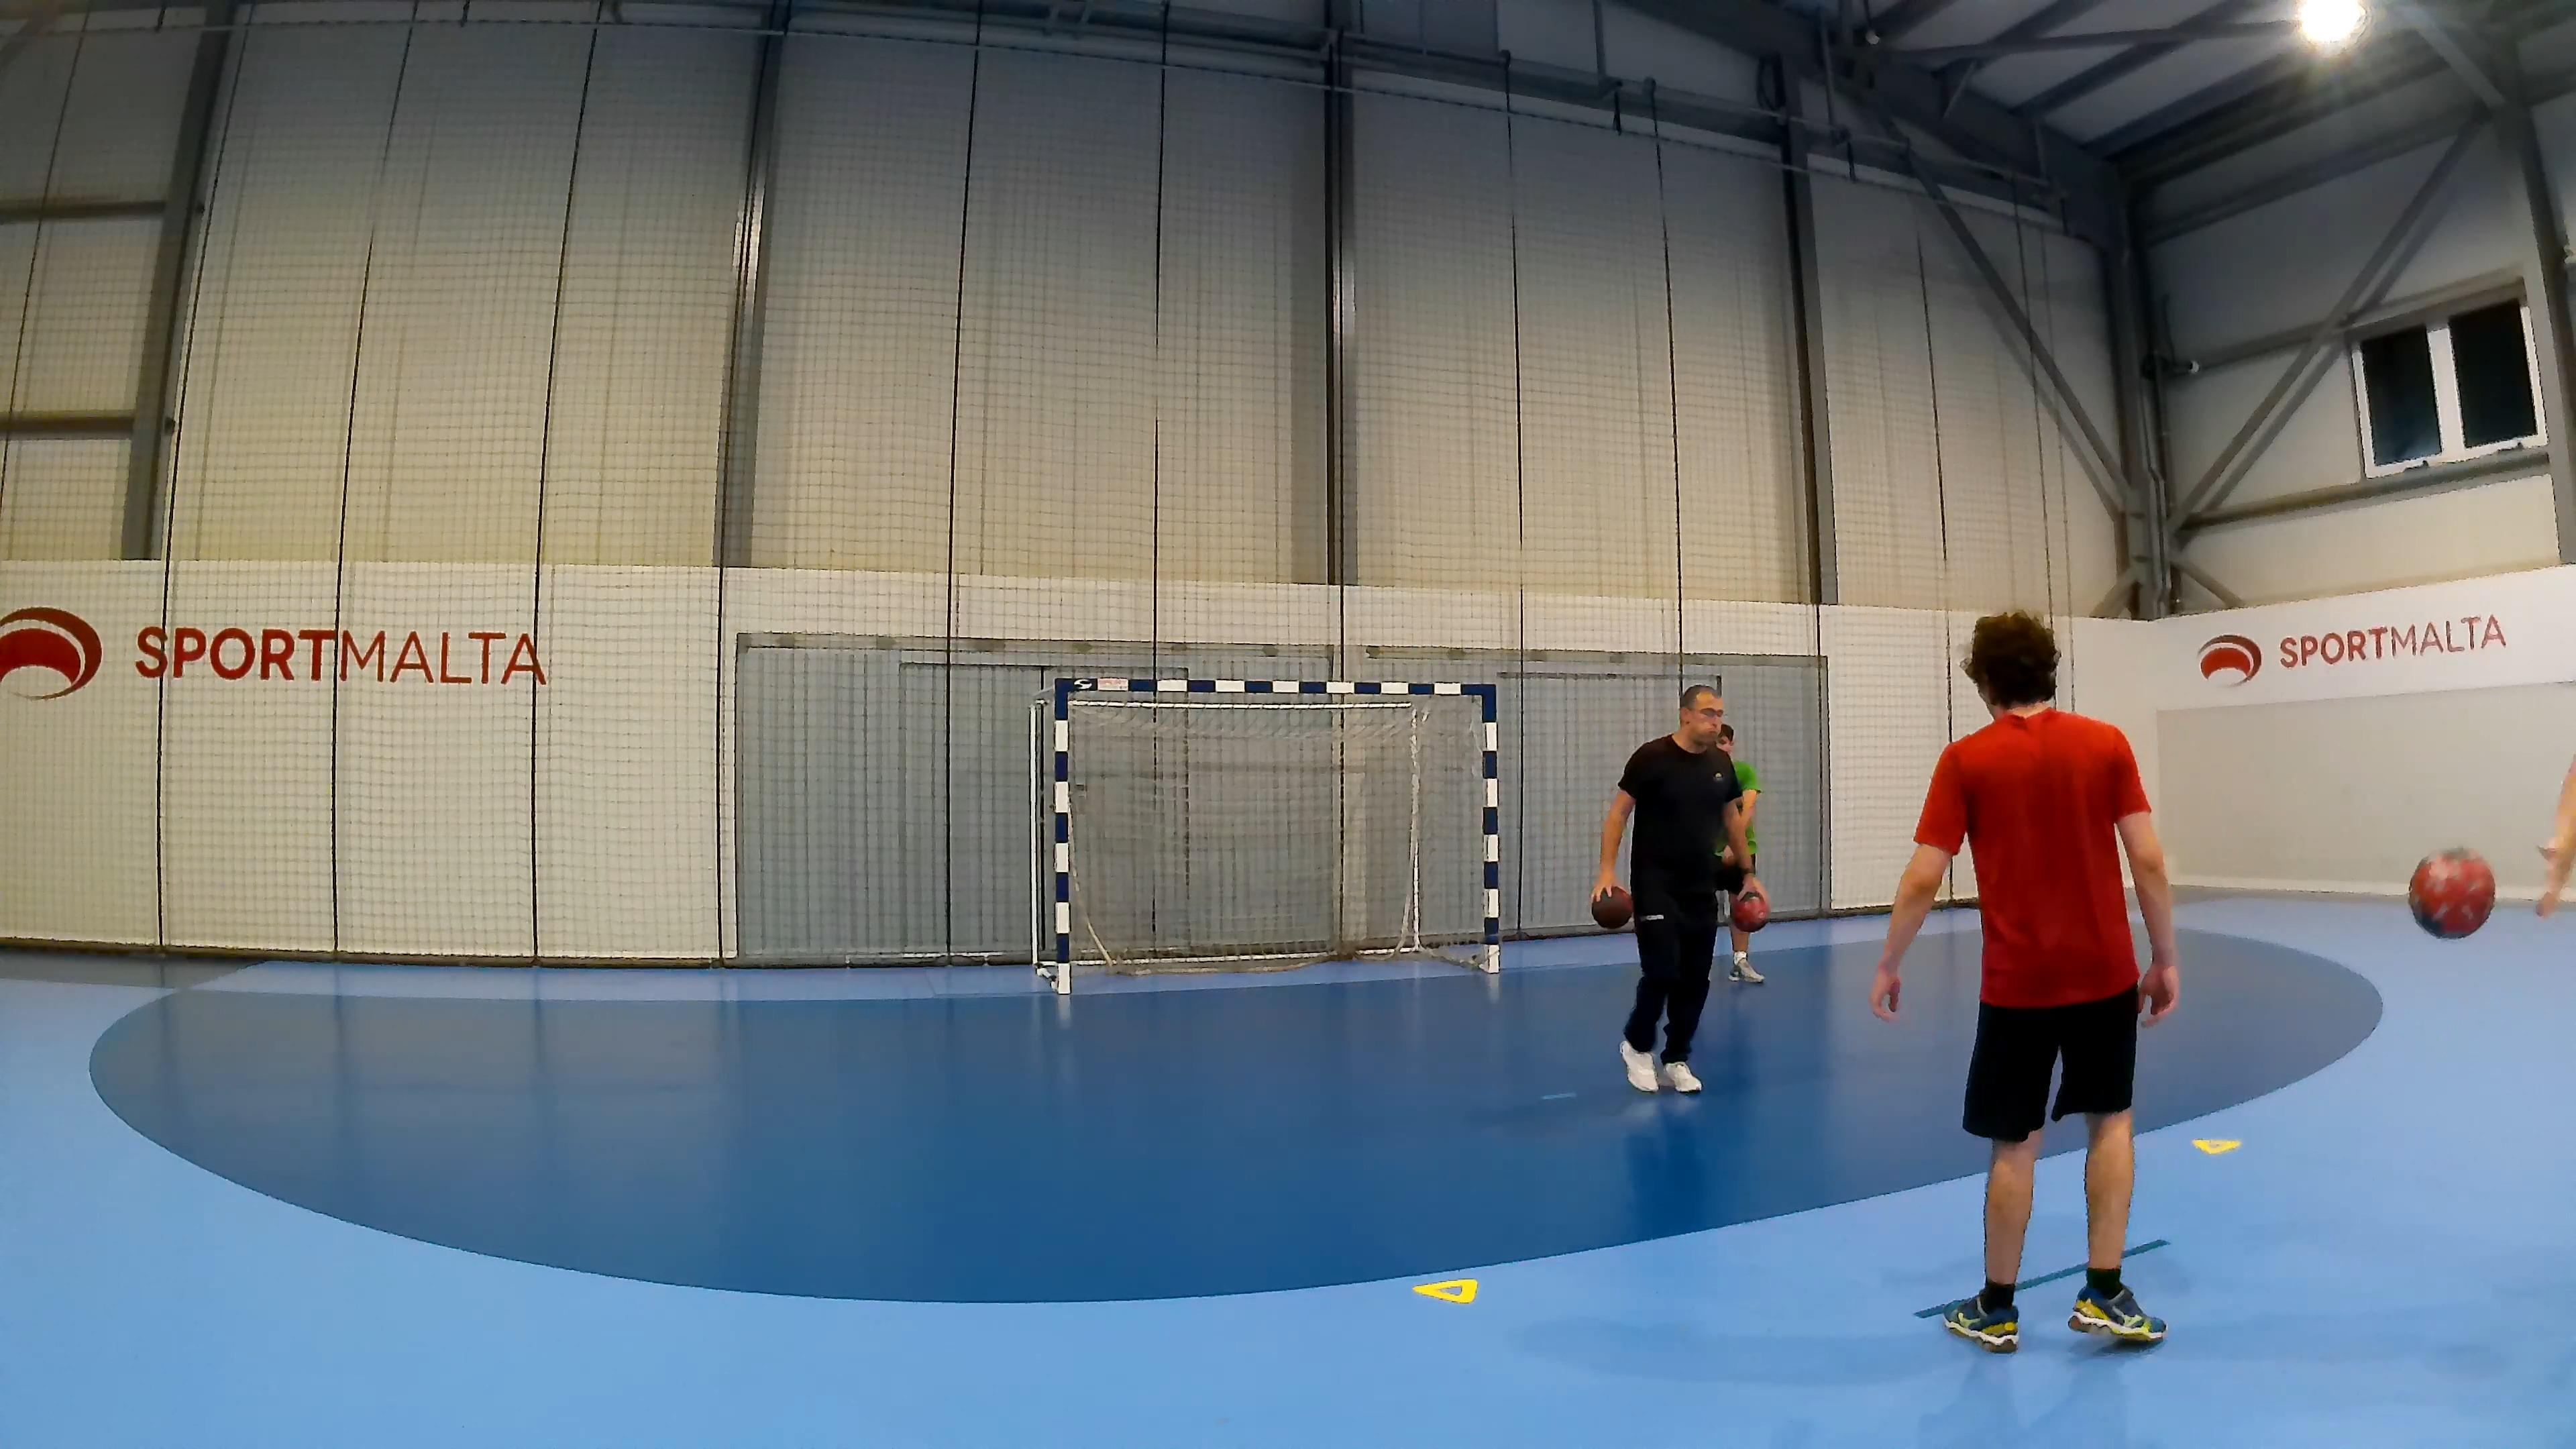handball: (2406, 846, 2495, 938), (1589, 883, 1633, 929), (1729, 890, 1767, 931)
